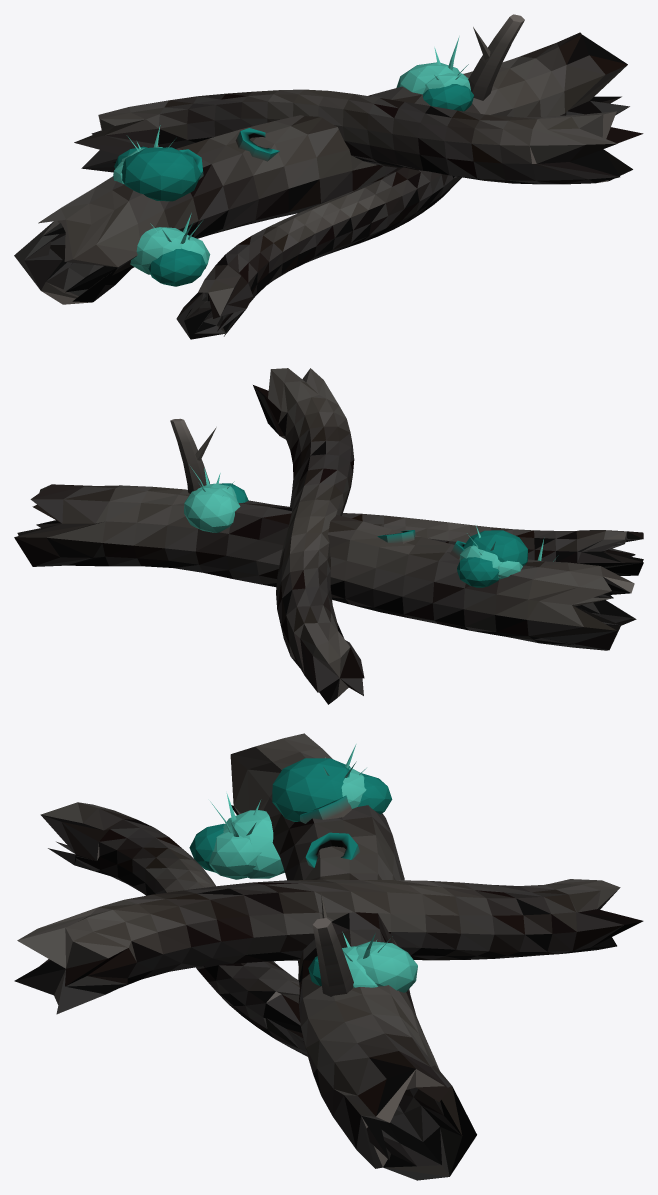
Rendered from pohon_tumbang_logjam_swamp_373817.glb.
3 renders of one model, top to bottom at view 1: azimuth 30°, elevation 25°; view 2: azimuth 150°, elevation 25°; view 3: azimuth 270°, elevation 25°, orthographic. The views are drawn at different scales.
Visible parts, largest first — view 1: Tumpukan_Kayu_Hanyut; view 2: Tumpukan_Kayu_Hanyut; view 3: Tumpukan_Kayu_Hanyut.
Boxes of the visible parts, <box> form: Tumpukan_Kayu_Hanyut: <box>14,14,643,339</box>; Tumpukan_Kayu_Hanyut: <box>14,368,643,704</box>; Tumpukan_Kayu_Hanyut: <box>14,733,643,1180</box>.
Size of the model in its own units: 7.12 by 1.8 by 5.04.
